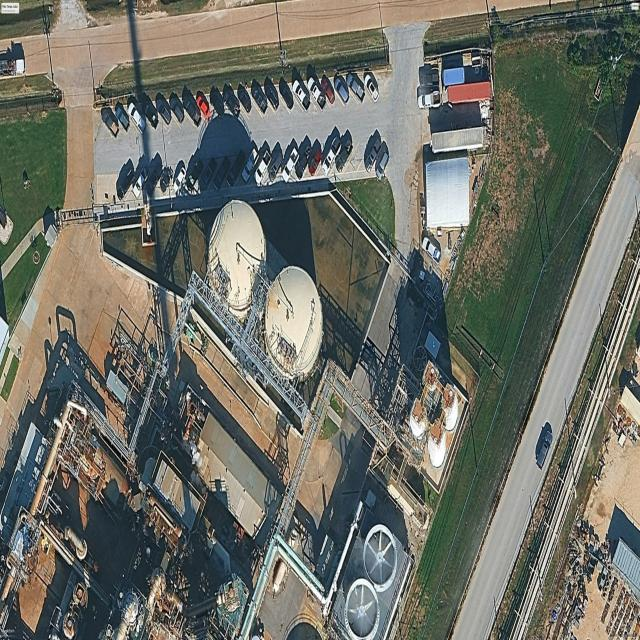Oil Rafinery: (208, 200, 266, 321), (264, 266, 323, 381)
